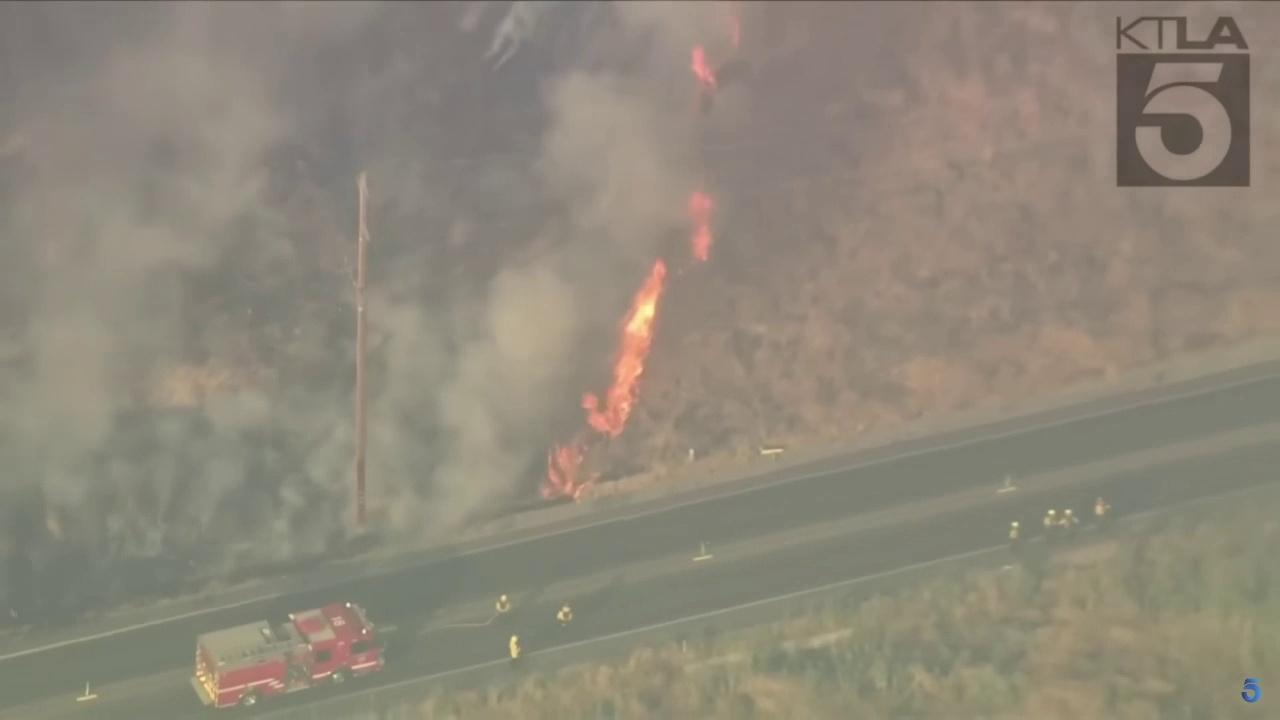fire: (580, 260, 667, 440), (533, 435, 601, 503), (687, 188, 716, 262), (691, 44, 720, 91), (728, 11, 741, 47)
smoke: (0, 0, 764, 593)
